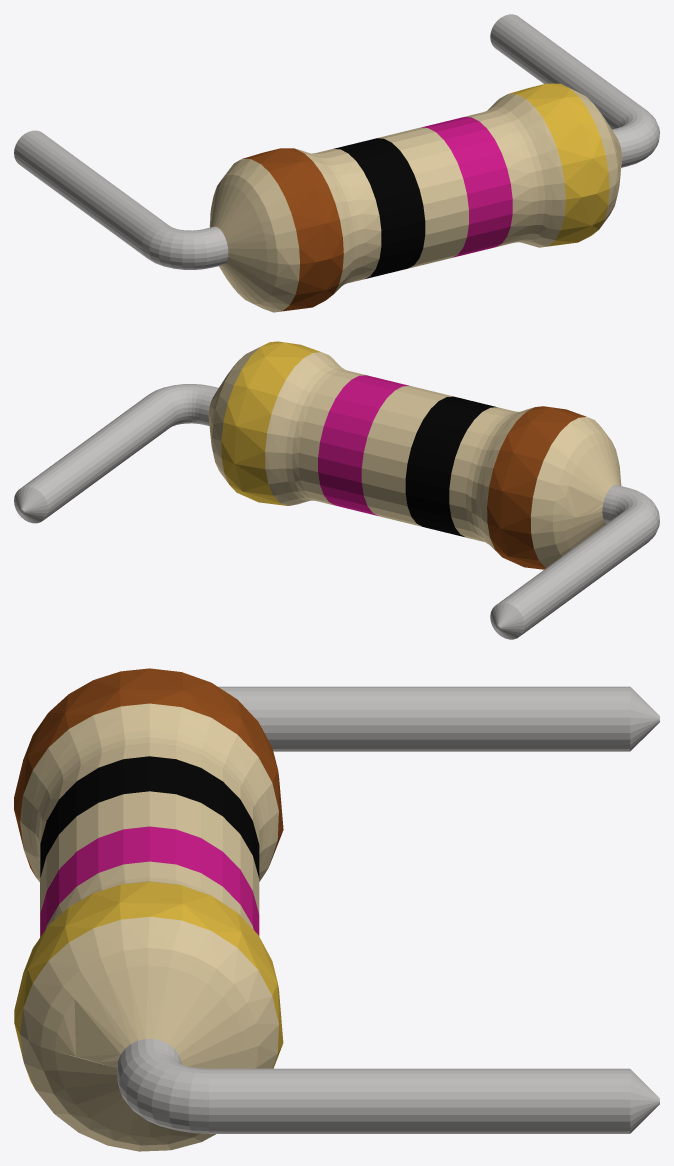
The model's file is Yageo CFR-25 Resistor Axial P7.62mm 100,0 MOhm.obj.
3 views of the same model, one above another, from view 1: azimuth 30°, elevation 25°; view 2: azimuth 150°, elevation 25°; view 3: azimuth 270°, elevation 25° (orthographic). The views are drawn at different scales.
Parts seen in each view (by area): view 1: Yageo_CFR-25_Resistor_Axial_P7.62mm_100,0_MOhm; view 2: Yageo_CFR-25_Resistor_Axial_P7.62mm_100,0_MOhm; view 3: Yageo_CFR-25_Resistor_Axial_P7.62mm_100,0_MOhm.
Part boxes in pixels (x1,y1,x2,y2): Yageo_CFR-25_Resistor_Axial_P7.62mm_100,0_MOhm: (14, 14, 659, 312); Yageo_CFR-25_Resistor_Axial_P7.62mm_100,0_MOhm: (14, 341, 659, 639); Yageo_CFR-25_Resistor_Axial_P7.62mm_100,0_MOhm: (14, 668, 659, 1151).
Bounding box in the file's own units: 0.0253 × 0.00699 × 0.0169.
